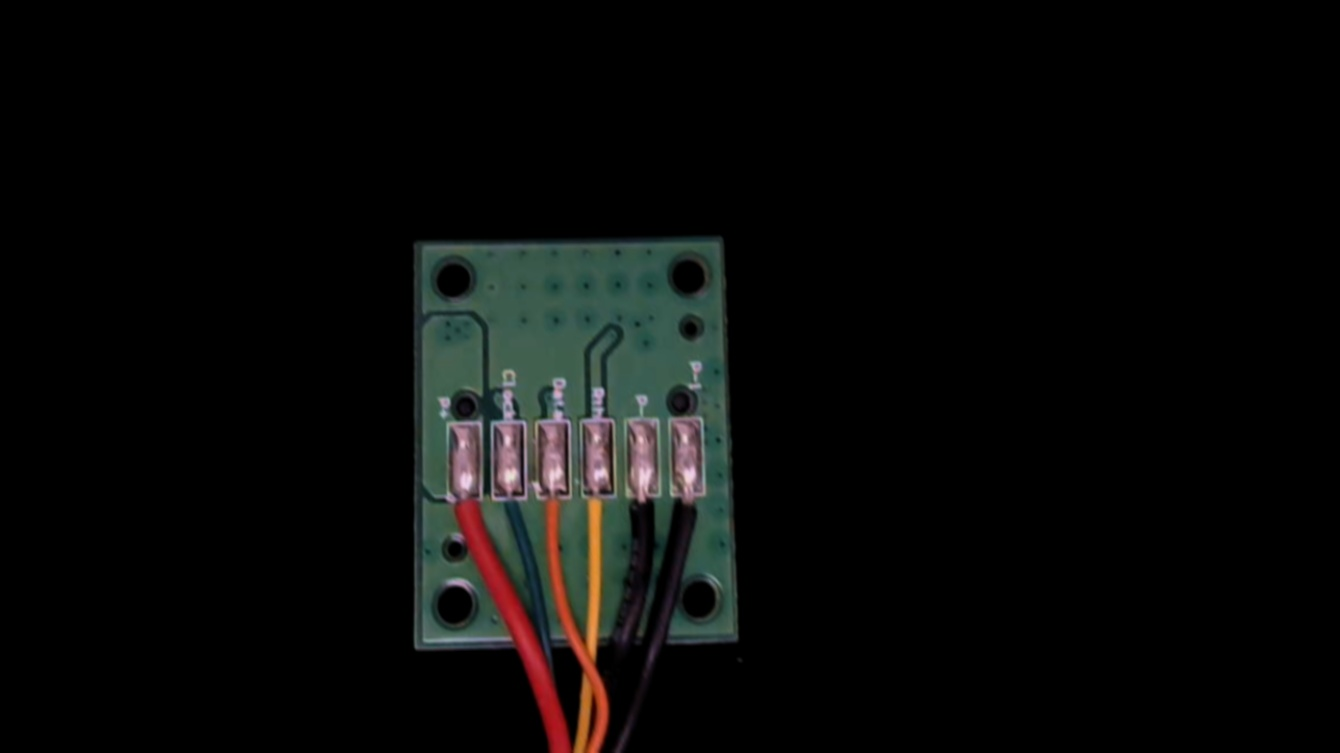Black: (623, 476, 665, 568)
Black1: (669, 475, 709, 560)
Green: (493, 477, 531, 556)
Orange: (533, 479, 572, 570)
Red: (443, 481, 482, 569)
Yellow: (577, 476, 617, 569)
